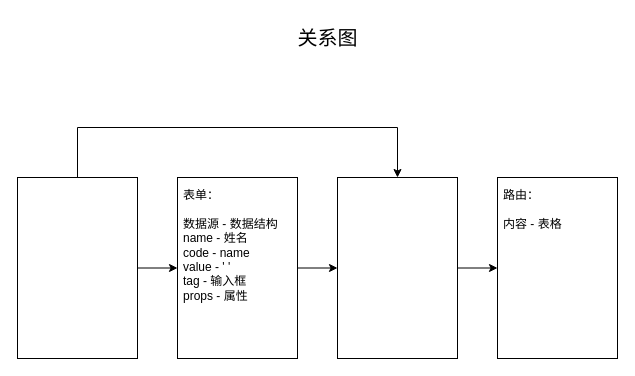
Some shapes in this 635 by 376 pixel diagram are drawn without their labels. The shapes that lost their labels are listed below. From the top down, each one's centre as x and y in pixels, then its label:
At (x=77, y=267): "数据结构： tableName - 表名 tableCode - 编码 字段集合： name - 姓名 code - name".
At (x=397, y=267): "表格： 数据源 - 数据结构 列数据 - 数据结构 行数据 - 数据源 操作列 - 表单（增、改） 筛选 分页".
